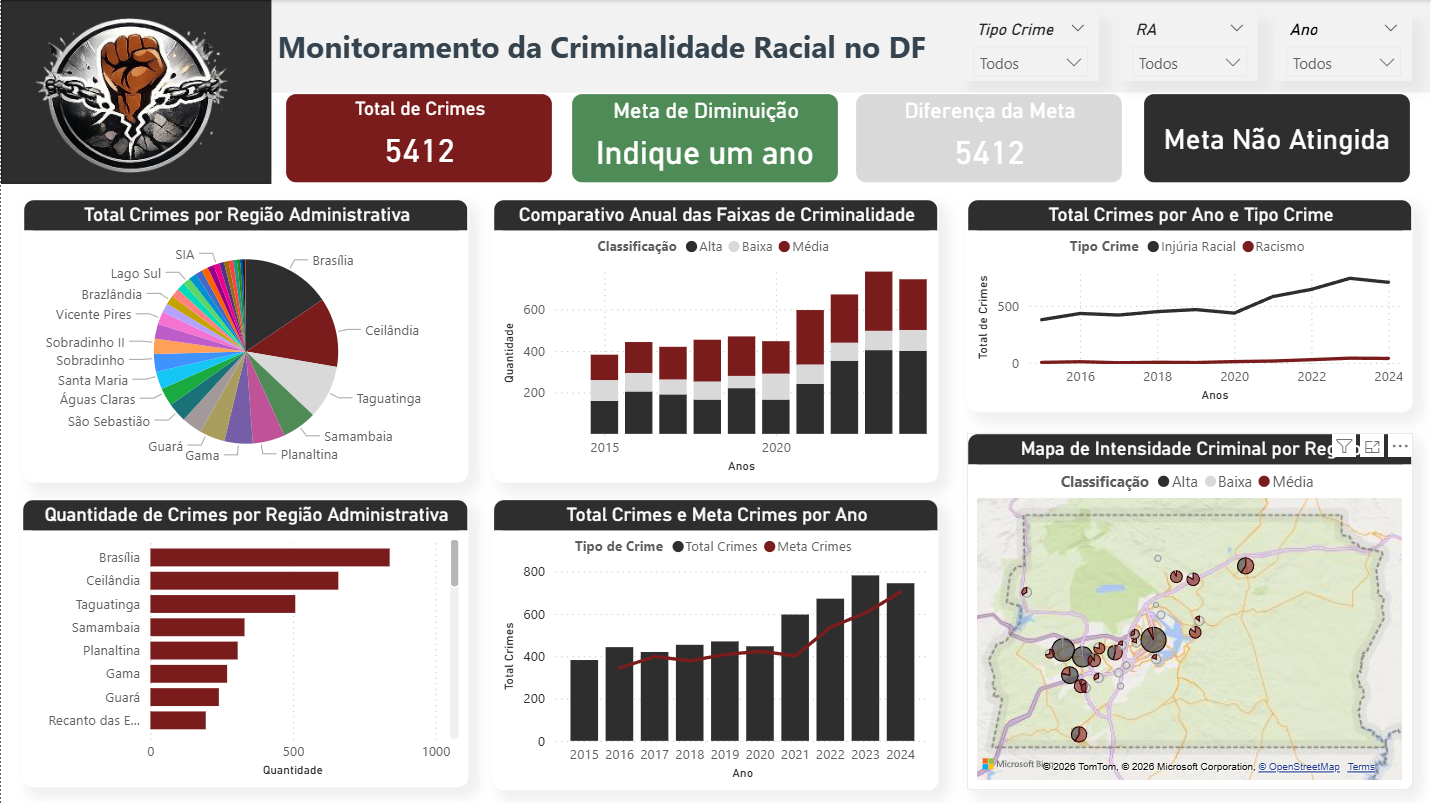

This screenshot's page, from the dashboard's own definition file:
{"tool":"powerbi","page":{"name":"CRIMINALIDADE RACIAL NO DF","canvas":[1280,720],"ordinal":0},"visuals":[{"type":"shape","box":[0,0,1279.7,83.3],"z":0},{"type":"shape","box":[0,0,242.5,164.7],"z":1000},{"type":"slicer","fields":{"Values":["Dim_TipoCrime.Tipo Crime"]},"box":[860.5,13.5,122.9,58.6],"z":2000},{"type":"shape","box":[0,72.5,1279.7,21.5],"z":3000},{"type":"slicer","title":"Ano","fields":{"Values":["Dim_Tempo.Ano"]},"box":[1141.3,13.5,122.9,58.6],"z":4000},{"type":"slicer","fields":{"Values":["Dim_Localidade.Região Administrativa"]},"box":[1002.6,13.5,122.9,58.6],"z":5000},{"type":"textbox","box":[242.5,18,597.7,48.5],"z":6000},{"type":"card","title":"Total de Crimes","fields":{"Values":["Fato_Criminalidade.Total Crimes"]},"box":[254.3,83.4,240,81],"z":7000},{"type":"card","title":"Meta de Diminuição","fields":{"Values":["Fato_Criminalidade.Mensagem Meta"]},"box":[510.4,83.4,240,81],"z":8000},{"type":"card","title":"Diferença da Meta","fields":{"Values":["Fato_Criminalidade.Diferença Meta"]},"box":[764.8,83.4,240,81],"z":9000},{"type":"pieChart","fields":{"Category":["Dim_Localidade.Região Administrativa"],"Y":["Fato_Criminalidade.Total Crimes"]},"box":[19.7,178.2,399.4,254.3],"z":10000},{"type":"barChart","title":"Quantidade de Crimes por Região Administrativa","fields":{"Category":["Dim_Localidade.Região Administrativa"],"Y":["Sum(Fato_Criminalidade.Quantidade)"]},"box":[19.2,446.6,400.4,258.3],"z":11000},{"type":"columnChart","title":"Comparativo Anual das Faixas de Criminalidade","fields":{"Category":["Dim_Tempo.Ano"],"Series":["Dim_Nivel.Classificação"],"Y":["Sum(Fato_Criminalidade.Quantidade)"]},"box":[440.6,178.2,399.4,254.3],"z":12000},{"type":"lineChart","fields":{"Category":["Dim_Tempo.Ano"],"Y":["Fato_Criminalidade.Total Crimes"],"Series":["Dim_TipoCrime.Tipo Crime"]},"box":[865.1,178.2,399.4,190.7],"z":13000},{"type":"map","title":"Mapa de Intensidade Criminal por Região","fields":{"Category":["Dim_Localidade.Região Administrativa"],"Size":["Fato_Criminalidade.Total Crimes"],"Series":["Dim_Nivel.Classificação"]},"box":[865.1,387.8,399.4,319.7],"z":14000},{"type":"lineStackedColumnComboChart","fields":{"Category":["Dim_Tempo.Data.Variation.Hierarquia de datas.Ano"],"Y":["Fato_Criminalidade.Total Crimes"],"Y2":["Fato_Criminalidade.Meta Crimes"]},"box":[440.6,446.9,399.4,260.6],"z":15000},{"type":"image","box":[0,0,242.7,164.8],"z":16000},{"type":"card","fields":{"Values":["Fato_Criminalidade.Status Meta"]},"box":[1022.7,83.4,240,81],"z":17000}]}

Visuals, with their boxes in screenshot pixels (x1, y1, x2, y2), scaled from the page's 1280x720 canvas onto the 1431x803 screenshot:
shape: box(0, 0, 1430, 93)
shape: box(0, 0, 271, 184)
slicer - Dim_TipoCrime.Tipo Crime: box(962, 15, 1099, 80)
shape: box(0, 81, 1430, 105)
"Ano" slicer: box(1276, 15, 1413, 80)
slicer - Dim_Localidade.Região Administrativa: box(1121, 15, 1258, 80)
textbox: box(271, 20, 939, 74)
"Total de Crimes" card: box(284, 93, 553, 183)
"Meta de Diminuição" card: box(571, 93, 839, 183)
"Diferença da Meta" card: box(855, 93, 1123, 183)
pieChart - Dim_Localidade.Região Administrativa x Fato_Criminalidade.Total Crimes: box(22, 199, 469, 482)
"Quantidade de Crimes por Região Administrativa" barChart: box(21, 498, 469, 786)
"Comparativo Anual das Faixas de Criminalidade" columnChart: box(493, 199, 939, 482)
lineChart - Dim_Tempo.Ano x Fato_Criminalidade.Total Crimes: box(967, 199, 1414, 411)
"Mapa de Intensidade Criminal por Região" map: box(967, 433, 1414, 789)
lineStackedColumnComboChart - Dim_Tempo.Data.Variation.Hierarquia de datas.Ano x Fato_Criminalidade.Total Crimes: box(493, 498, 939, 789)
image: box(0, 0, 271, 184)
card - Fato_Criminalidade.Status Meta: box(1143, 93, 1412, 183)
